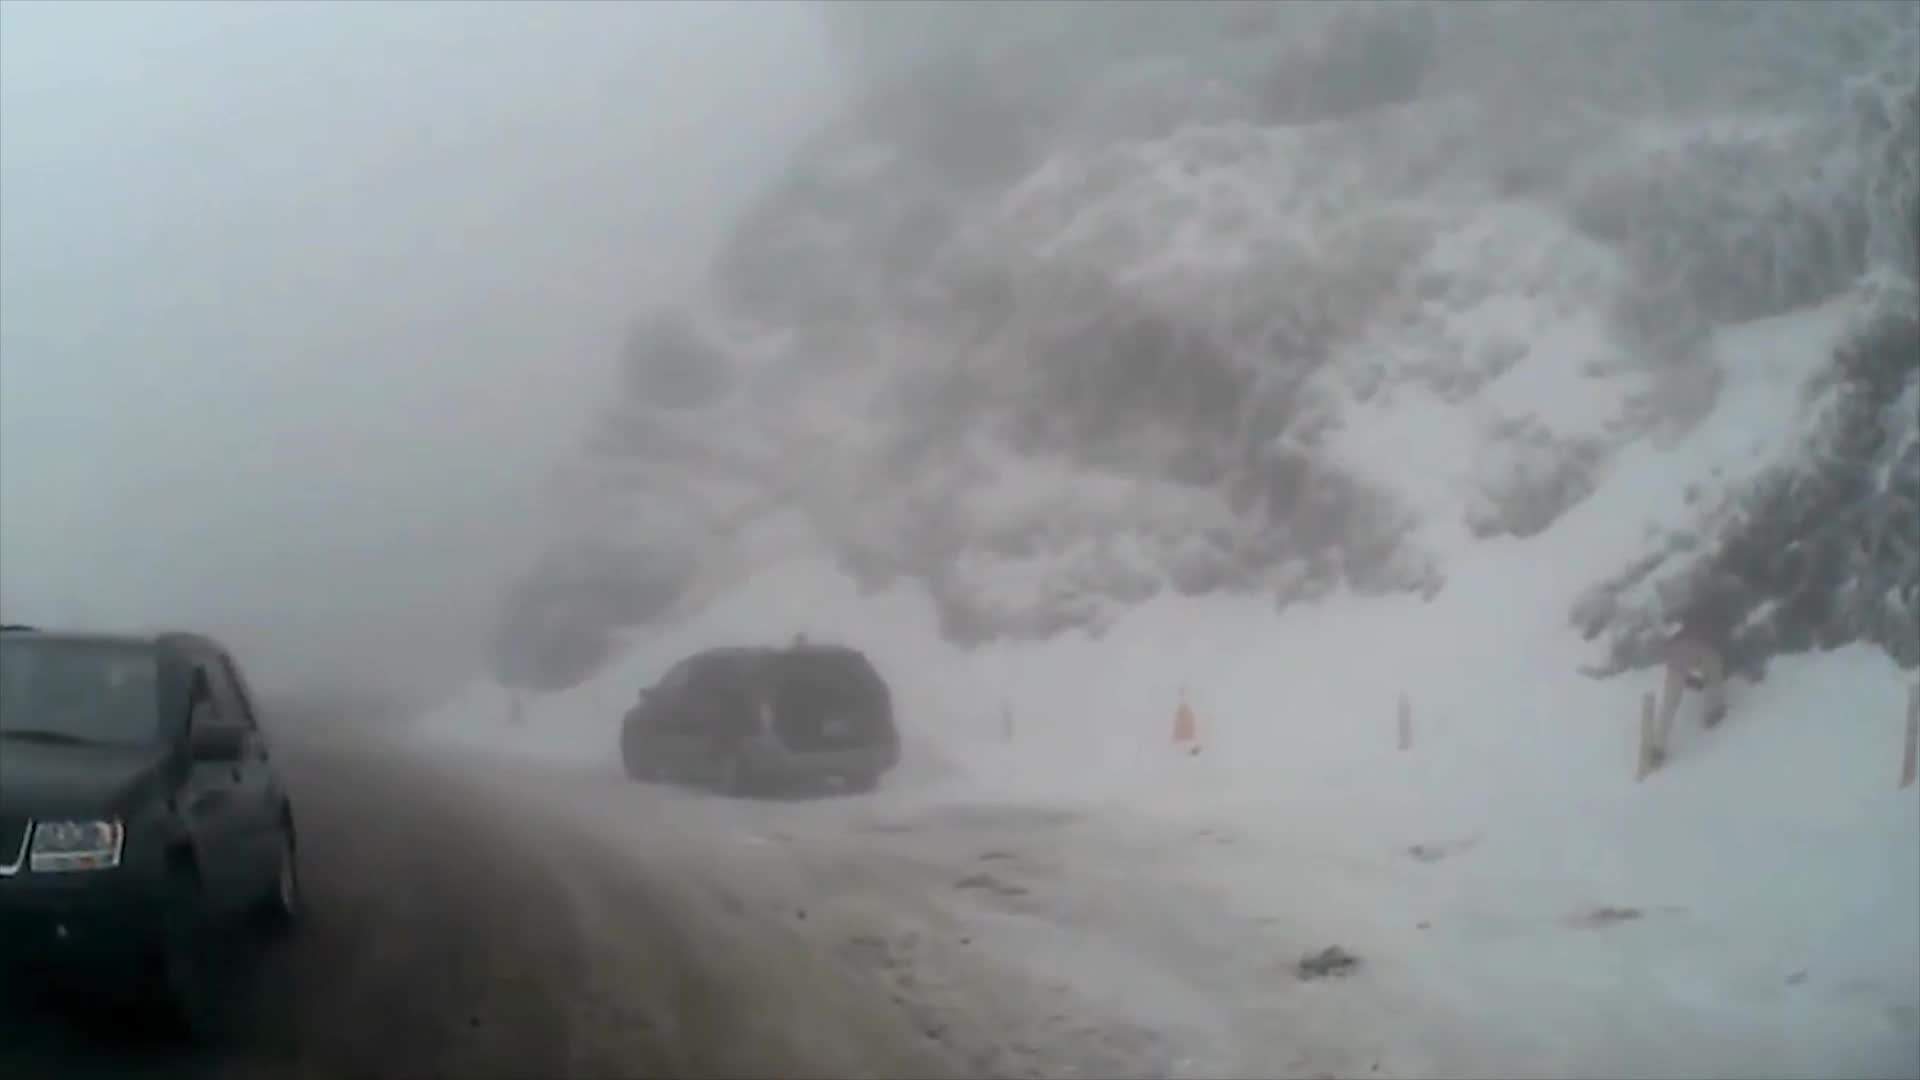vehicle: (0, 622, 302, 1048), (618, 644, 898, 795)
